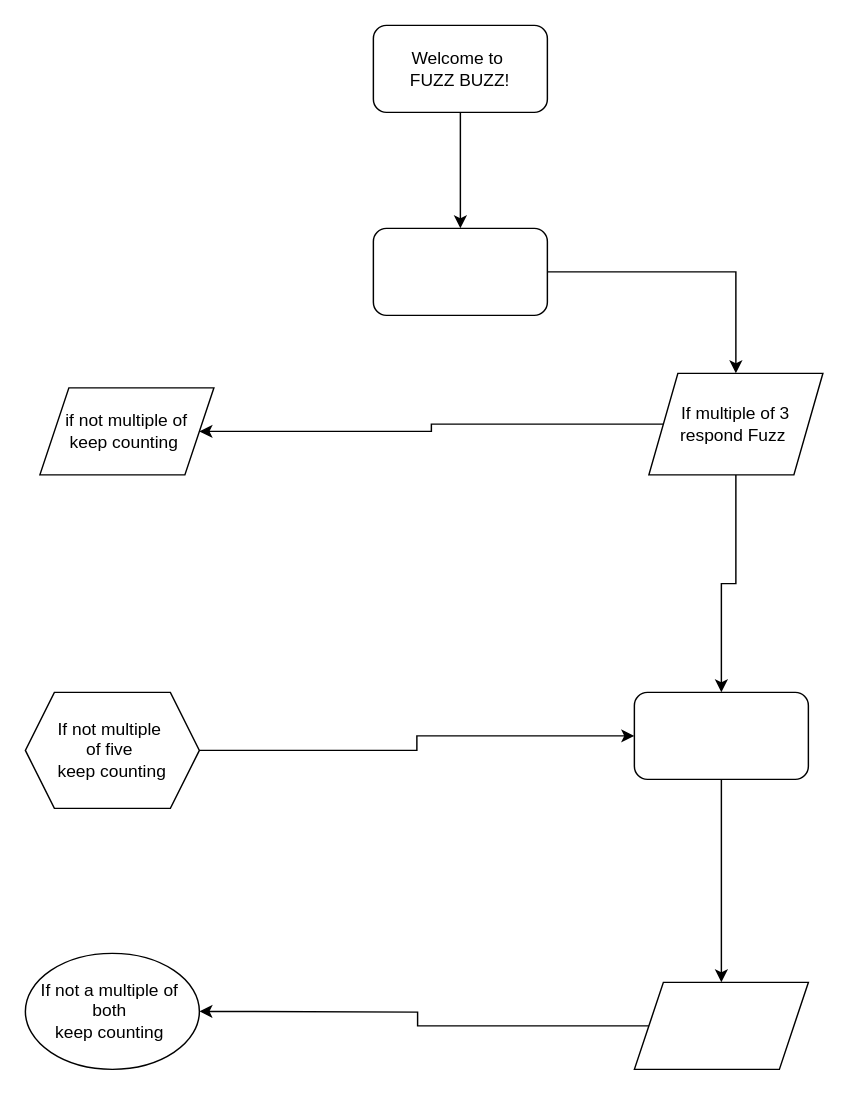
Some shapes in this 848 by 1095 pixel diagram are drawn without their labels. The shapes that lost their labels are listed below. From the top down, each one's box as (x1, y1, x2, y2) in pixels, then its label:
(372, 227, 547, 315): Counting to a hundred
(633, 691, 808, 779): If multiple of 5 say Buzz
(633, 981, 808, 1069): If Multiple of Both say FuZZ BUZZ
